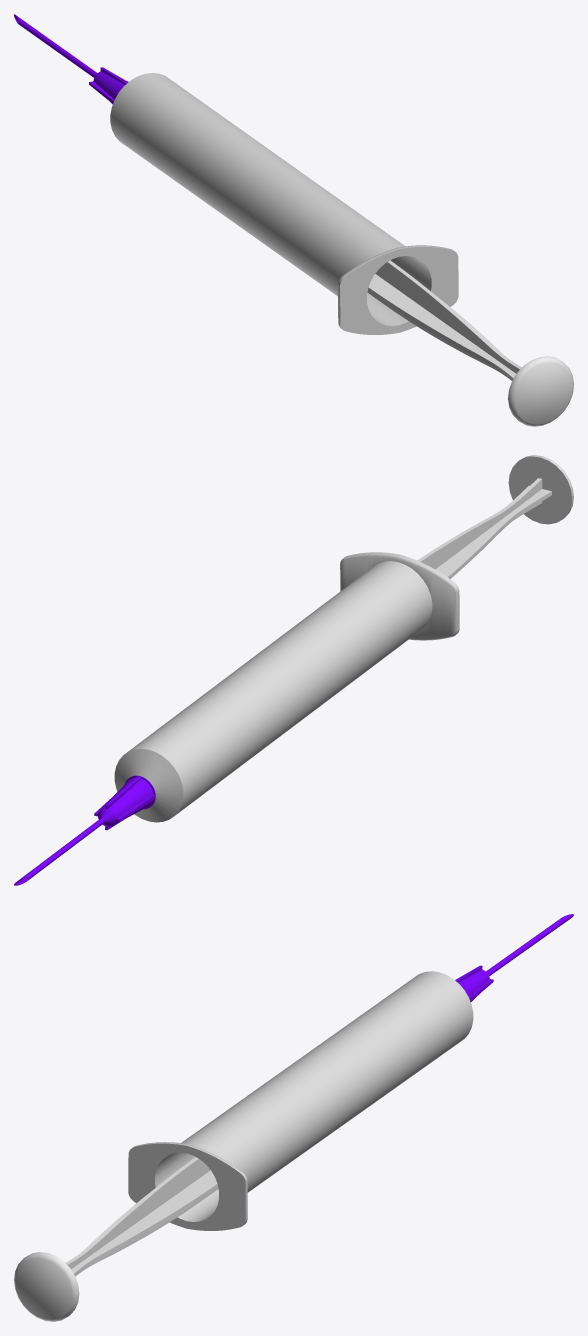
File: syringe.glb
The picture shows the model from 3 angles, top to bottom: view 1: azimuth 30°, elevation 25°; view 2: azimuth 150°, elevation 25°; view 3: azimuth 330°, elevation 25°; orthographic projection.
Parts seen in each view (by area): view 1: Group_003, Group_006, Group_004, Group_002; view 2: Group_003, Group_006, Group_004, Group_002; view 3: Group_003, Group_006, Group_004, Group_002.
Part boxes in pixels (box(x1,y1,x2,y2)): Group_003: box(110, 73, 458, 334); Group_006: box(367, 260, 521, 380); Group_004: box(508, 356, 573, 426); Group_002: box(14, 14, 128, 104); Group_003: box(114, 552, 459, 822); Group_006: box(417, 478, 551, 578); Group_004: box(508, 455, 573, 524); Group_002: box(14, 775, 155, 885); Group_003: box(128, 971, 473, 1230); Group_006: box(65, 1157, 218, 1276); Group_004: box(14, 1252, 79, 1321); Group_002: box(455, 914, 573, 1002).
Bounding box in the file's own units: 43.62 × 29.45 × 340.
